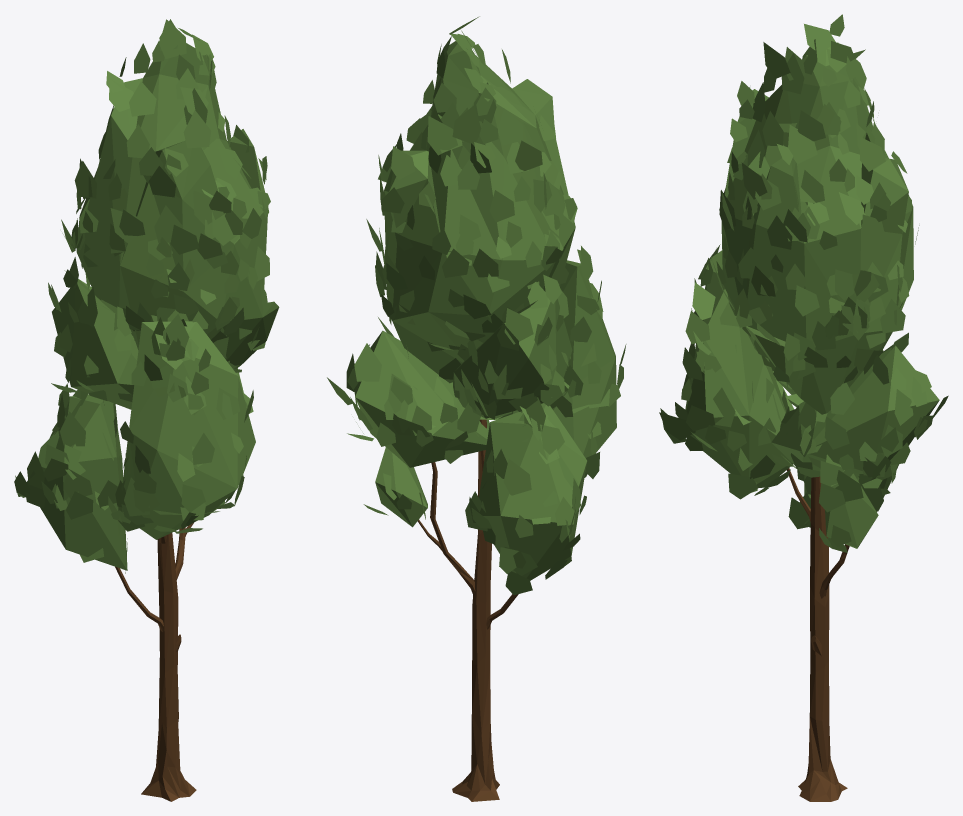
Rendered from tree-poplar-mature-a.gltf.
3 views of the same model, side by side, from view 1: azimuth 30°, elevation 25°; view 2: azimuth 150°, elevation 25°; view 3: azimuth 270°, elevation 25° (orthographic).
Visible parts, largest first — view 1: tree-poplar-mature-a; view 2: tree-poplar-mature-a; view 3: tree-poplar-mature-a.
Boxes of the visible parts, box(x1,y1,x2,y2) form: tree-poplar-mature-a: box(14, 19, 279, 801); tree-poplar-mature-a: box(327, 16, 626, 801); tree-poplar-mature-a: box(659, 14, 948, 801).
Bounding box in the file's own units: 0.0498 × 0.1585 × 0.0535.
